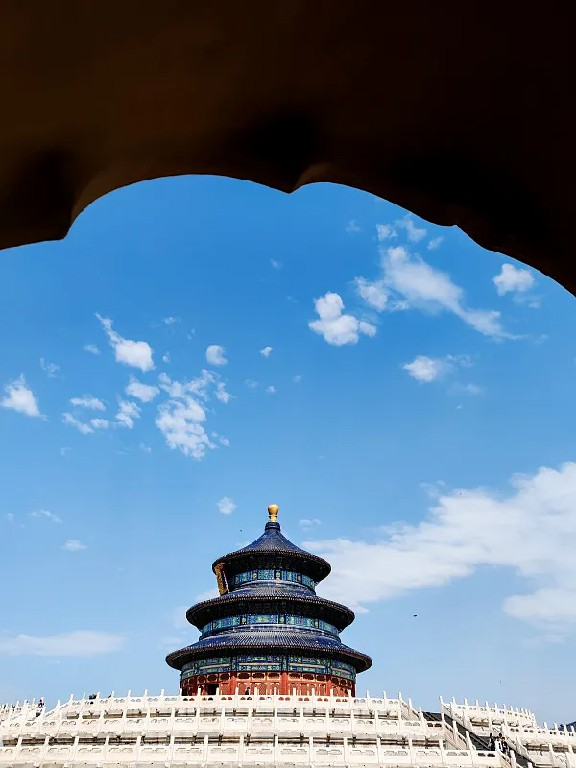Heaven: (164, 504, 373, 699)
